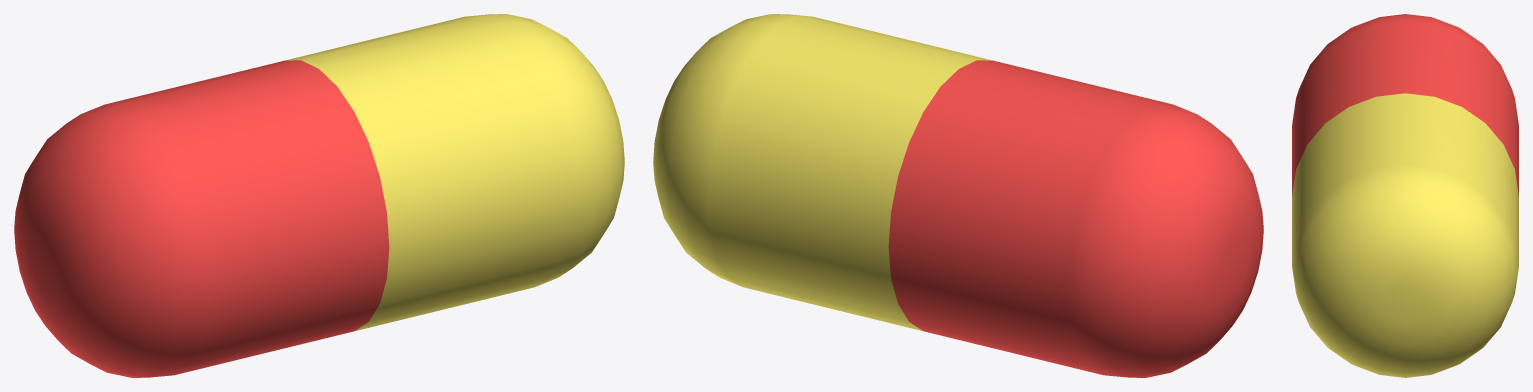
The model's file is Store_15_Pill_7.glb.
3 views of the same model, side by side, from view 1: azimuth 30°, elevation 25°; view 2: azimuth 150°, elevation 25°; view 3: azimuth 270°, elevation 25° (orthographic). The views are drawn at different scales.
Visible parts, largest first — view 1: Store_15_Pill_7; view 2: Store_15_Pill_7; view 3: Store_15_Pill_7.
Boxes of the visible parts, <box> form: Store_15_Pill_7: <box>14,14,624,377</box>; Store_15_Pill_7: <box>653,14,1263,377</box>; Store_15_Pill_7: <box>1292,14,1518,377</box>.
Bounding box in the file's own units: 1.76 × 0.7695 × 0.7695.
1 material, 1 textured.
